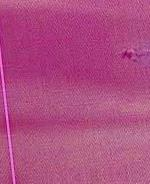knot: (120, 45, 150, 66)
